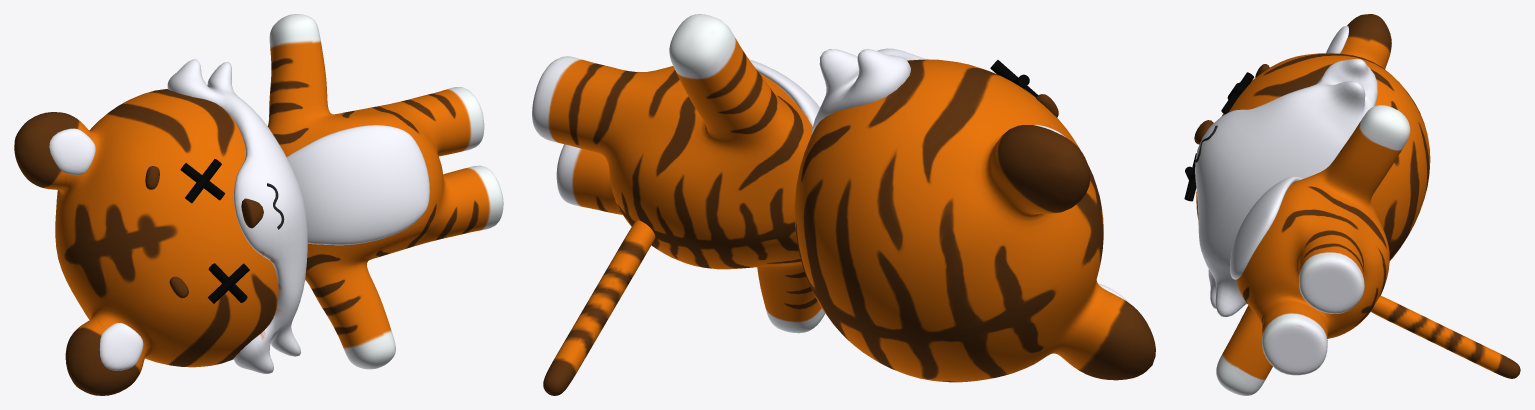
Rendered from tiger-sick.glb.
The picture shows the model from 3 angles, left to right: view 1: azimuth 30°, elevation 25°; view 2: azimuth 150°, elevation 25°; view 3: azimuth 270°, elevation 25°; orthographic projection. The views are drawn at different scales.
Parts seen in each view (by area): view 1: head_1, body_0, body 2_4, head 2_2, ear 2_3, eyebrown_6, nose_7, Cylinder.004, Cylinder.001; view 2: head_1, body_0, tail_9, head 2_2, body 2_4; view 3: body_0, head 2_2, head_1, tail_9, body 2_4, ear 2_3, Cylinder.003.
Boxes of the visible parts, x1,y1,x2,y2 form: head_1: (14,89,278,395); body_0: (267,14,503,369); body 2_4: (287,125,429,245); head 2_2: (167,59,307,373); ear 2_3: (49,128,143,370); eyebrown_6: (145,166,188,298); nose_7: (241,198,263,228); Cylinder.004: (185,159,221,203); Cylinder.001: (208,263,249,303); head_1: (794,59,1155,382); body_0: (532,14,825,333); tail_9: (543,220,655,395); head 2_2: (812,48,928,133); body 2_4: (749,59,819,126); body_0: (1216,105,1410,395); head 2_2: (1195,58,1377,316); head_1: (1196,14,1430,260); tail_9: (1371,295,1520,378); body 2_4: (1229,176,1303,279); ear 2_3: (1326,26,1348,53); Cylinder.003: (1221,72,1254,114).
Bounding box in the file's own units: 109 × 70.71 × 75.62.
10 materials, 4 textured.
